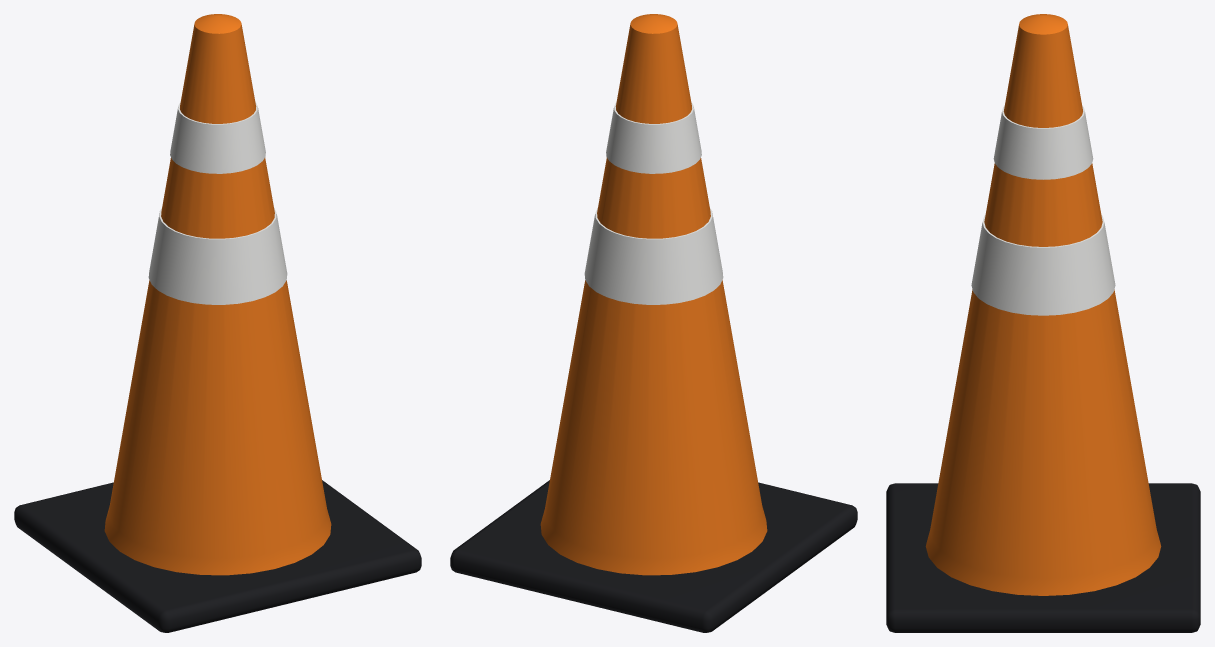
The model's file is vuena-gs-cone-traffic.glb.
3 renders of one model, left to right at view 1: azimuth 30°, elevation 25°; view 2: azimuth 150°, elevation 25°; view 3: azimuth 270°, elevation 25°, orthographic. The views are drawn at different scales.
Parts seen in each view (by area): view 1: gs_cone_traffic; view 2: gs_cone_traffic; view 3: gs_cone_traffic.
Part boxes in pixels (x1,y1,x2,y2): gs_cone_traffic: (14, 14, 421, 632); gs_cone_traffic: (450, 14, 857, 632); gs_cone_traffic: (886, 14, 1200, 632).
Bounding box in the file's own units: 0.3601 × 0.7 × 0.3601.
